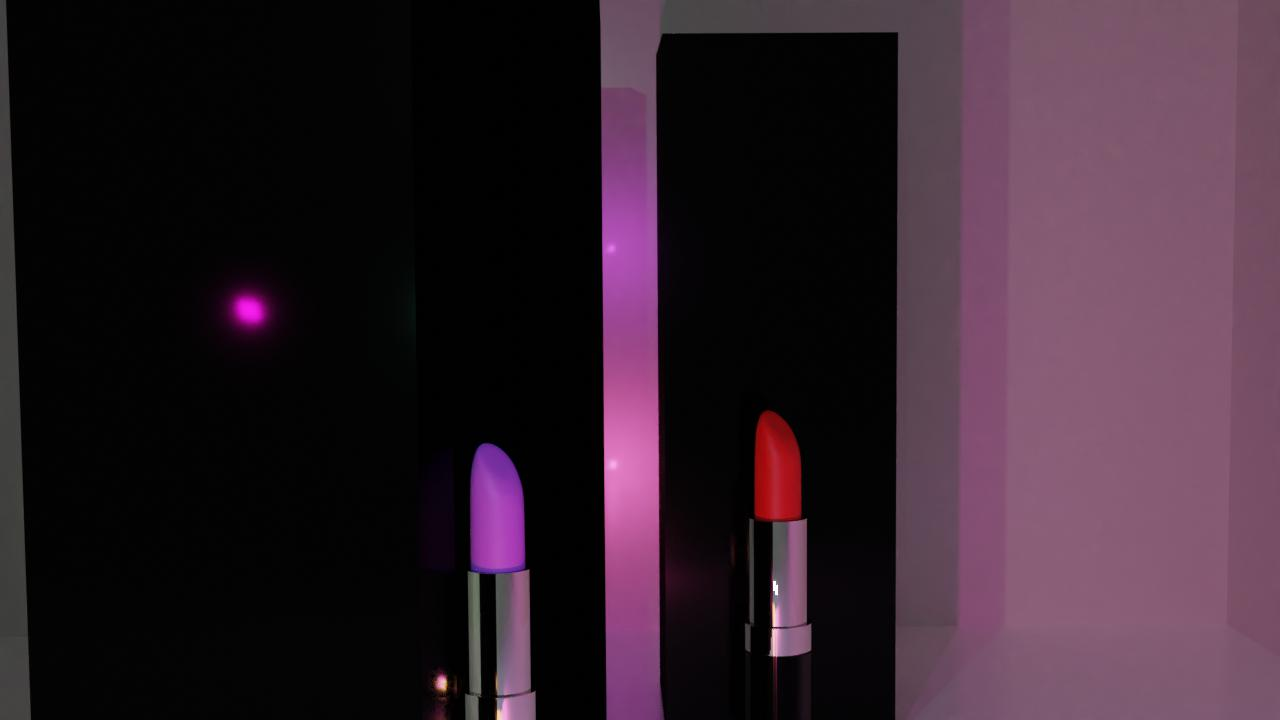CLASSIFIER_NAME: (458, 438, 542, 720), (743, 406, 814, 720)
